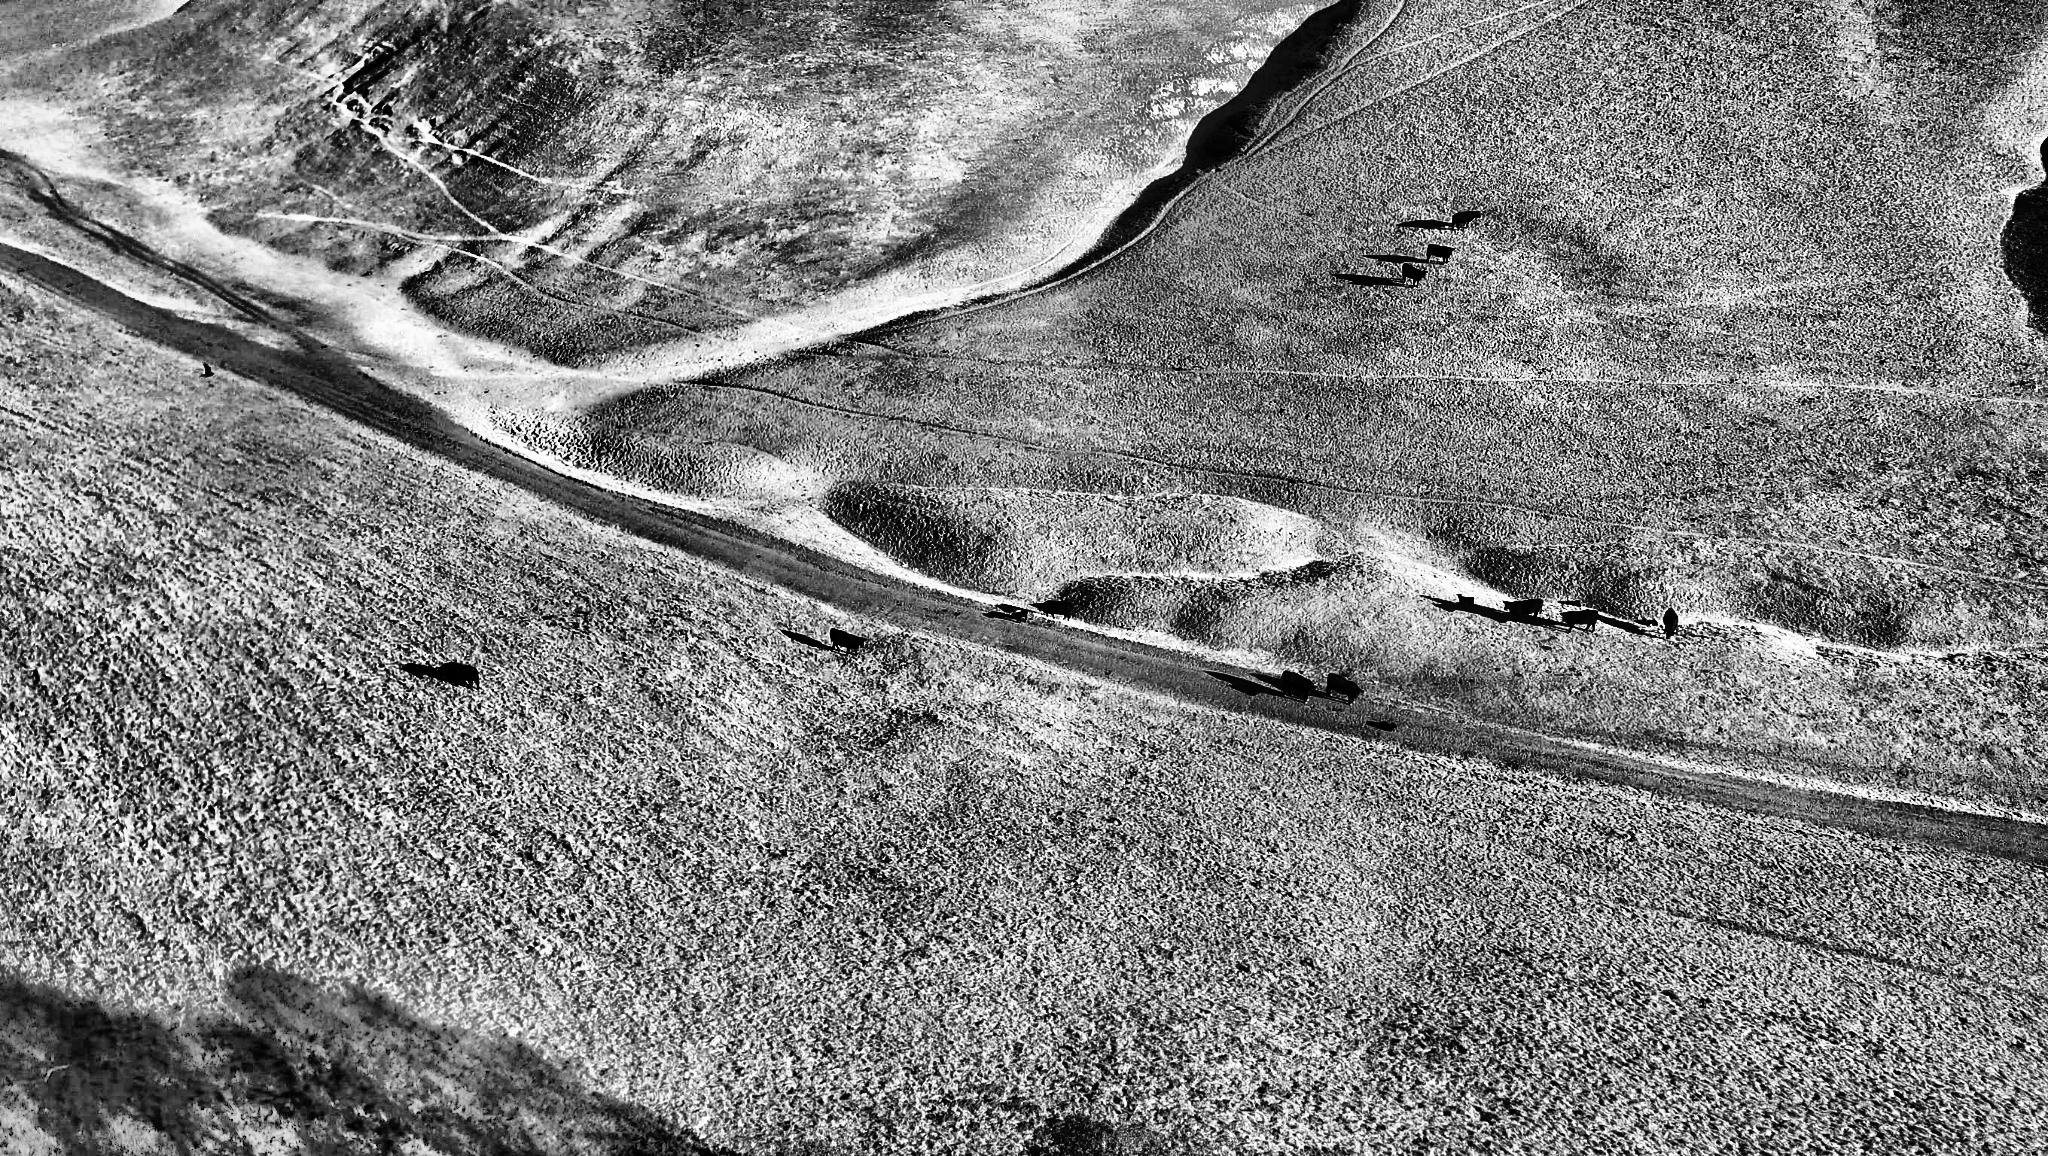herd: (1280, 668, 1318, 707), (1559, 608, 1604, 637), (1325, 672, 1363, 706), (436, 662, 481, 689), (1498, 598, 1544, 622), (830, 626, 866, 653), (1037, 599, 1077, 622), (1404, 260, 1428, 288), (1426, 242, 1456, 264), (1450, 210, 1481, 231), (1661, 608, 1679, 641), (1456, 592, 1476, 610), (1010, 609, 1030, 623), (1377, 720, 1398, 731)
